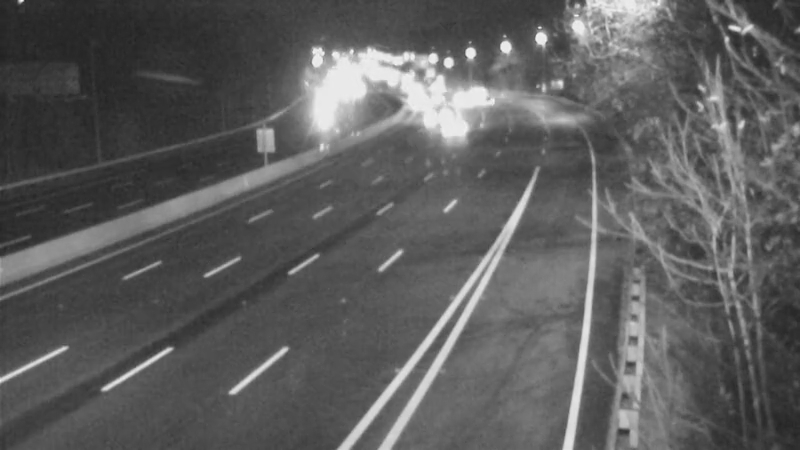vehicle: (408, 90, 458, 140), (431, 100, 481, 150), (301, 90, 351, 140)
